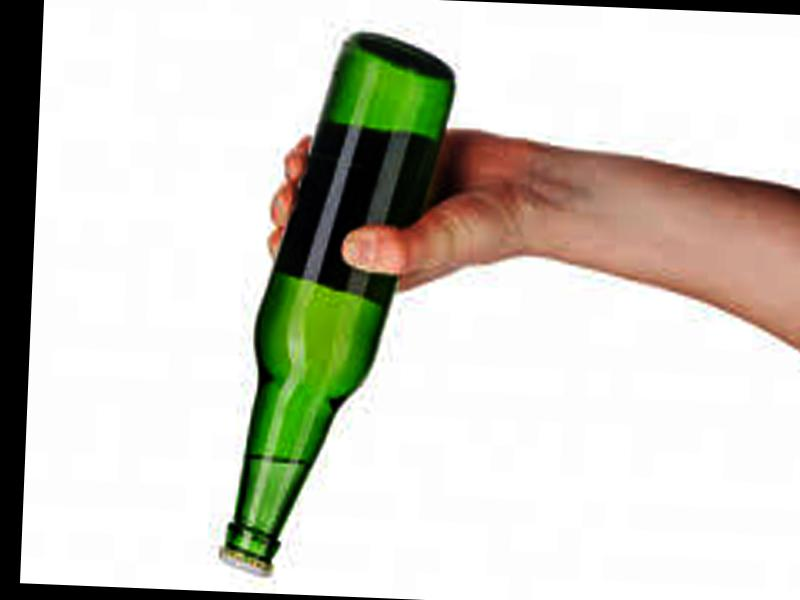Beer: (218, 27, 456, 583)
